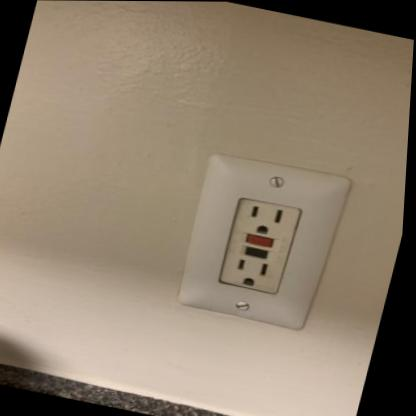OUTLET: (172, 148, 355, 331)
